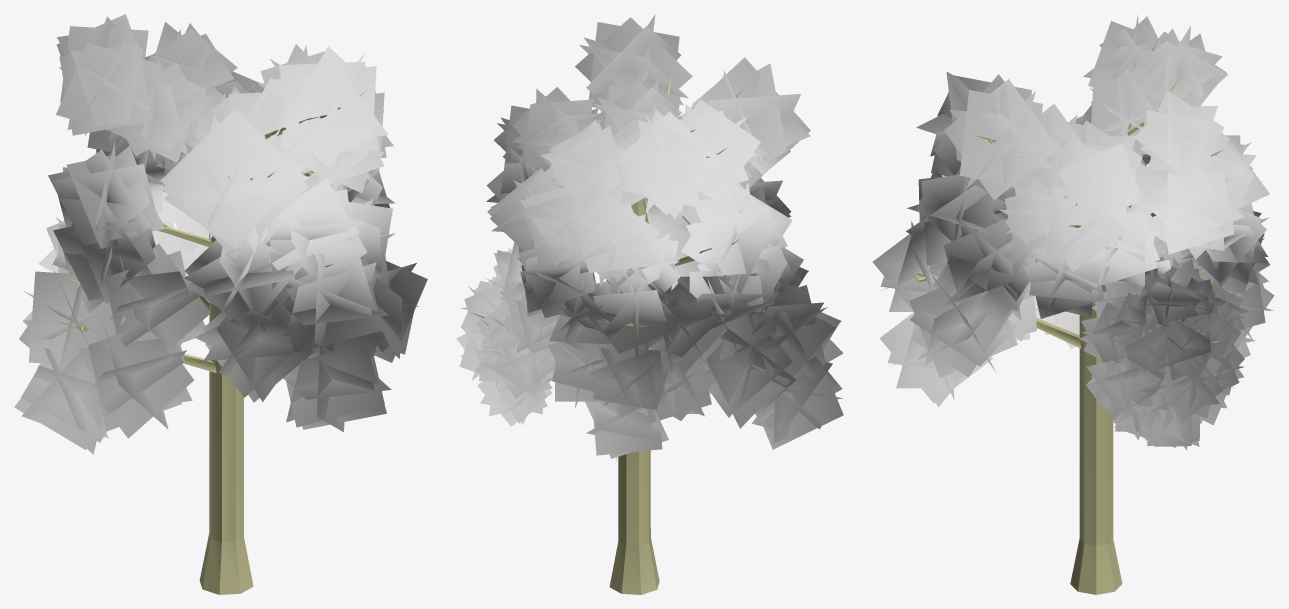
Rendered from TreeDauSmall_.fbx.
3 renders of one model, left to right at view 1: azimuth 30°, elevation 25°; view 2: azimuth 150°, elevation 25°; view 3: azimuth 270°, elevation 25°, orthographic. The views are drawn at different scales.
Parts seen in each view (by area): view 1: LeaveLOD0, Trunk_LOD0; view 2: LeaveLOD0, Trunk_LOD0; view 3: LeaveLOD0, Trunk_LOD0.
Boxes of the visible parts, box(x1,y1,x2,y2) form: LeaveLOD0: box(14, 14, 427, 454); Trunk_LOD0: box(47, 90, 378, 594); LeaveLOD0: box(456, 14, 843, 463); Trunk_LOD0: box(470, 54, 823, 594); LeaveLOD0: box(872, 14, 1274, 449); Trunk_LOD0: box(901, 36, 1231, 594).
Size of what is drawn, in the model's own units: 2562 by 3711 by 2584.
